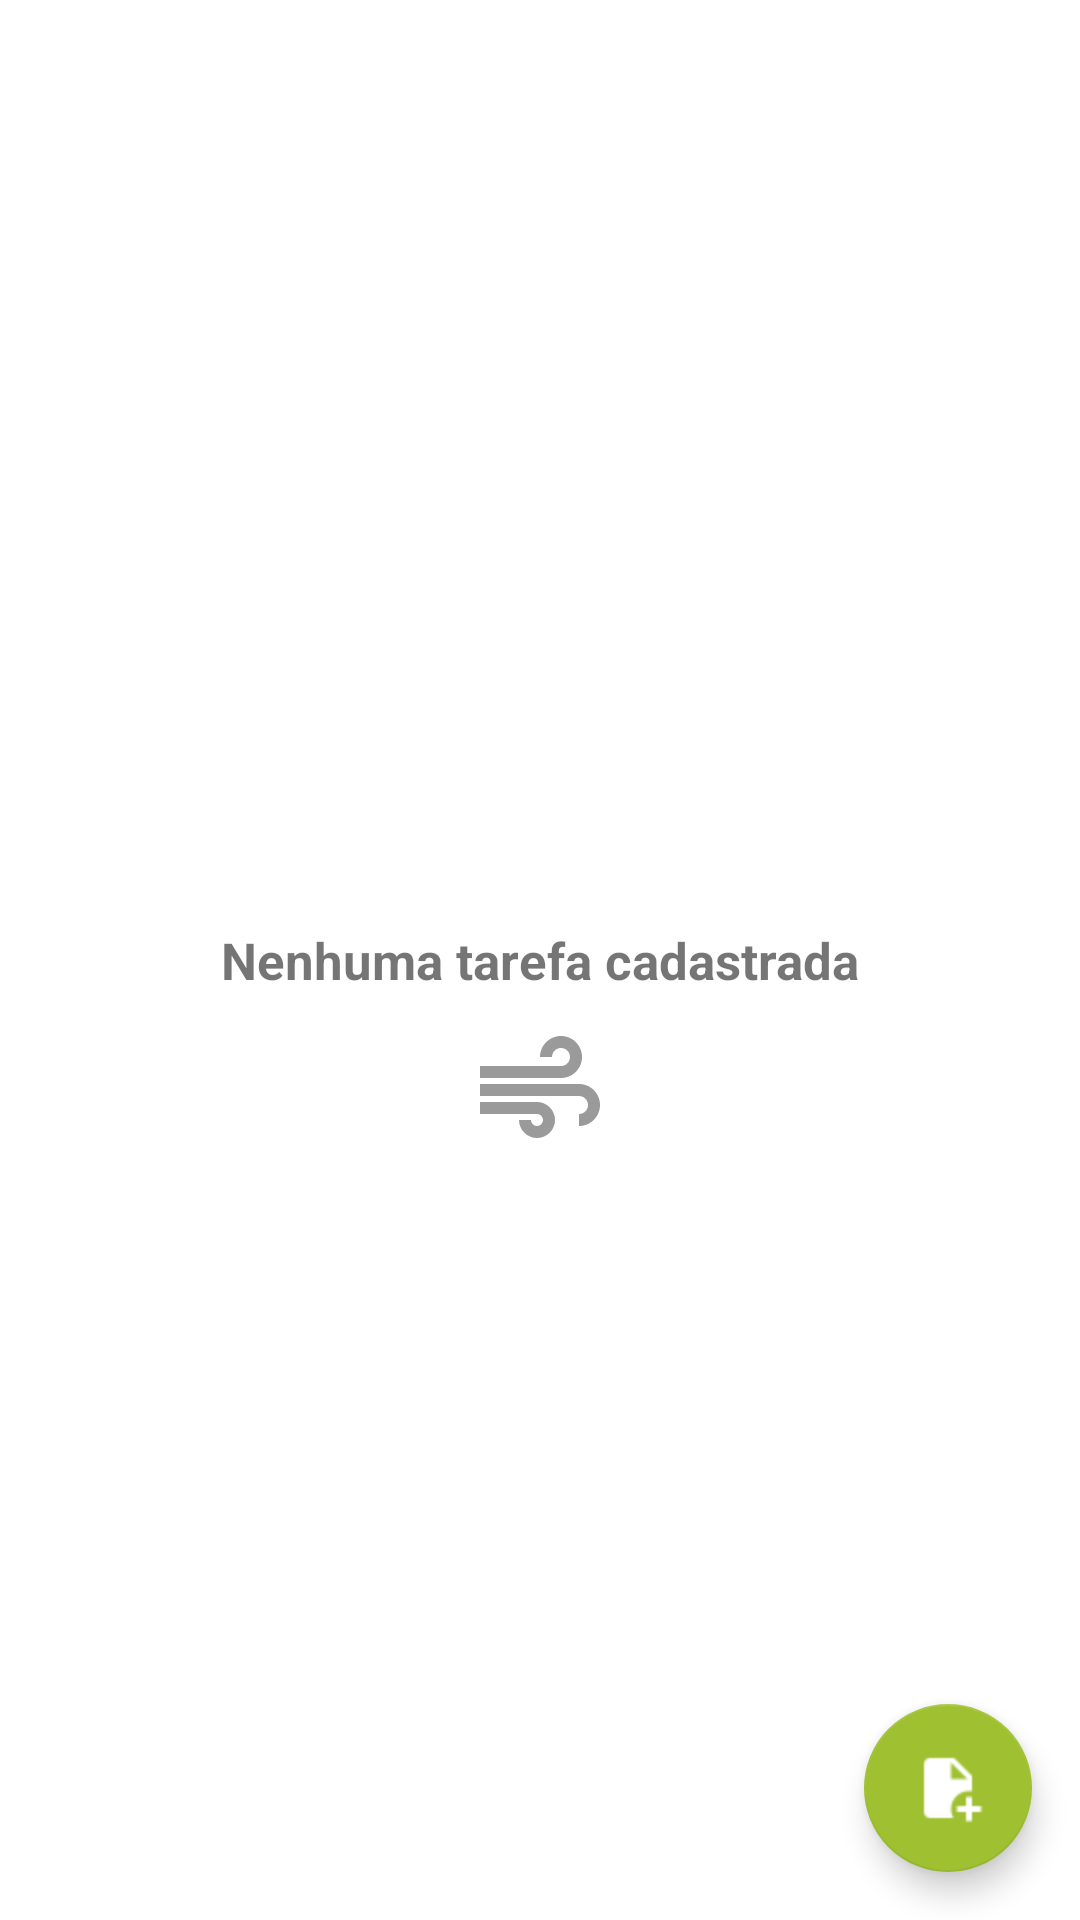

Named icons in this screenshot (1080px×1920px) and their centers, (x=x, y=y):
air: (x=540, y=1087)
file plus: (x=948, y=1788)
